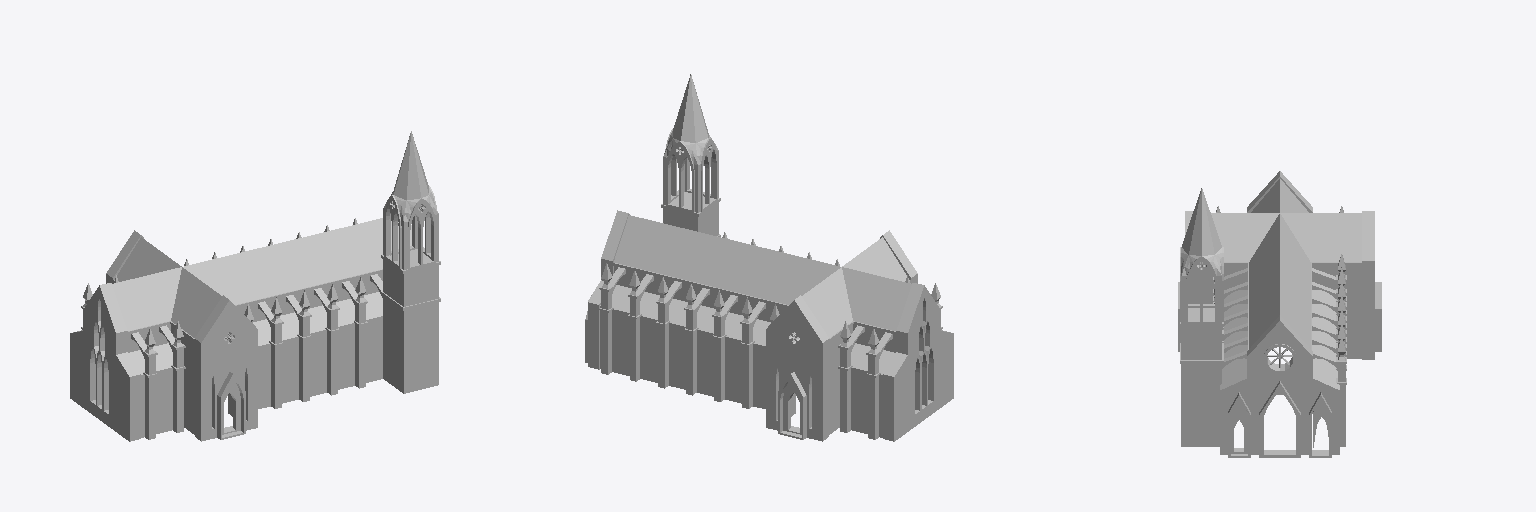
3 views of the same model, side by side, from view 1: azimuth 30°, elevation 25°; view 2: azimuth 150°, elevation 25°; view 3: azimuth 270°, elevation 25° (orthographic).
Visible parts, largest first — view 1: alcadosudoeste; view 2: alcadosudoeste; view 3: alcadosudoeste.
Boxes of the visible parts, x1,y1,x2,y2 form: alcadosudoeste: [70, 131, 440, 441]; alcadosudoeste: [585, 74, 953, 441]; alcadosudoeste: [1178, 171, 1381, 457].
Size of the model in its own units: 27.07 by 20.82 by 15.28.